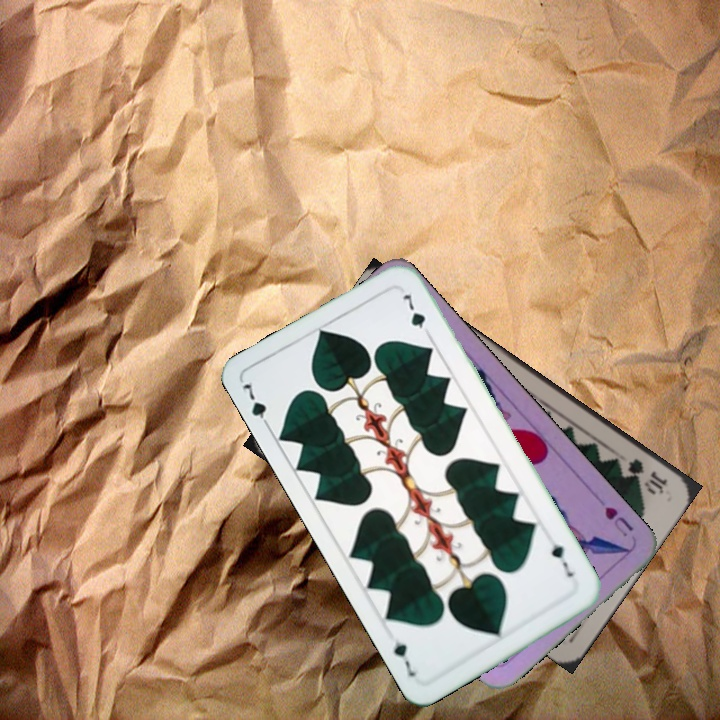G10: (624, 454, 670, 497)
G7: (238, 377, 274, 433), (547, 539, 576, 580)
HU: (601, 502, 636, 540)
